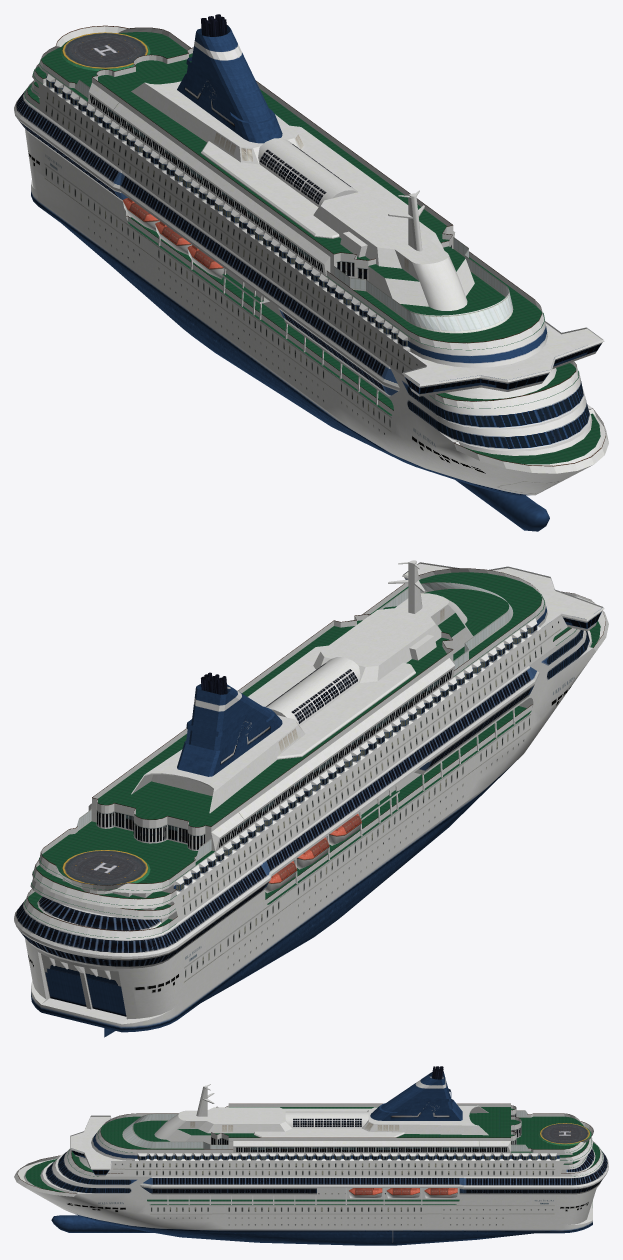
3 renders of one model, top to bottom at view 1: azimuth 30°, elevation 25°; view 2: azimuth 150°, elevation 25°; view 3: azimuth 270°, elevation 25°, orthographic. The views are drawn at different scales.
Parts seen in each view (by area): view 1: Obj3d66-19544132-3-281; view 2: Obj3d66-19544132-3-281; view 3: Obj3d66-19544132-3-281.
Boxes of the visible parts, <box> form: Obj3d66-19544132-3-281: <box>14,14,608,531</box>; Obj3d66-19544132-3-281: <box>14,560,608,1037</box>; Obj3d66-19544132-3-281: <box>14,1066,608,1245</box>.
Bounding box in the file's own units: 0.9303 × 1.34 × 4.44.
1 material, 1 textured.
